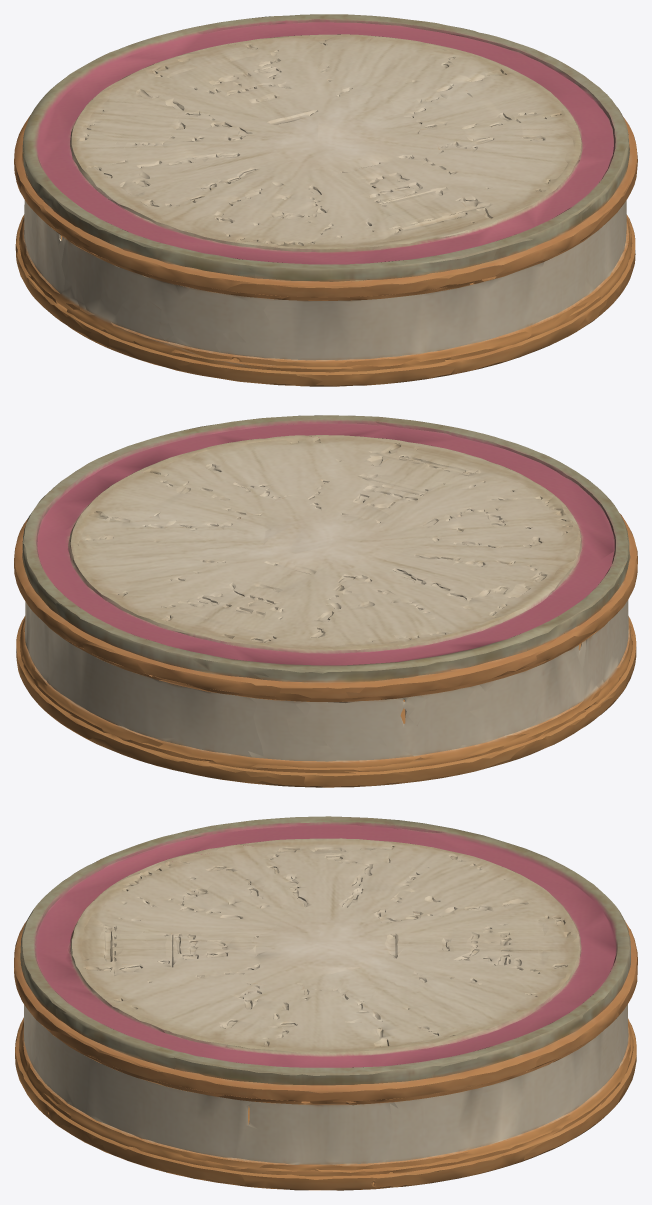
File: unified--teacup-deck.glb
The picture shows the model from 3 angles, top to bottom: view 1: azimuth 30°, elevation 25°; view 2: azimuth 150°, elevation 25°; view 3: azimuth 270°, elevation 25°; orthographic projection.
Visible parts, largest first — view 1: teacup-deck-1; view 2: teacup-deck-1; view 3: teacup-deck-1.
Boxes of the visible parts, left/top/right/bottom form: teacup-deck-1: left=14, top=14, right=637, bottom=386; teacup-deck-1: left=14, top=415, right=637, bottom=787; teacup-deck-1: left=14, top=816, right=637, bottom=1190.
Bounding box in the file's own units: 1.2 × 0.2486 × 1.2.
Materials: 1 (1 with a texture image).
